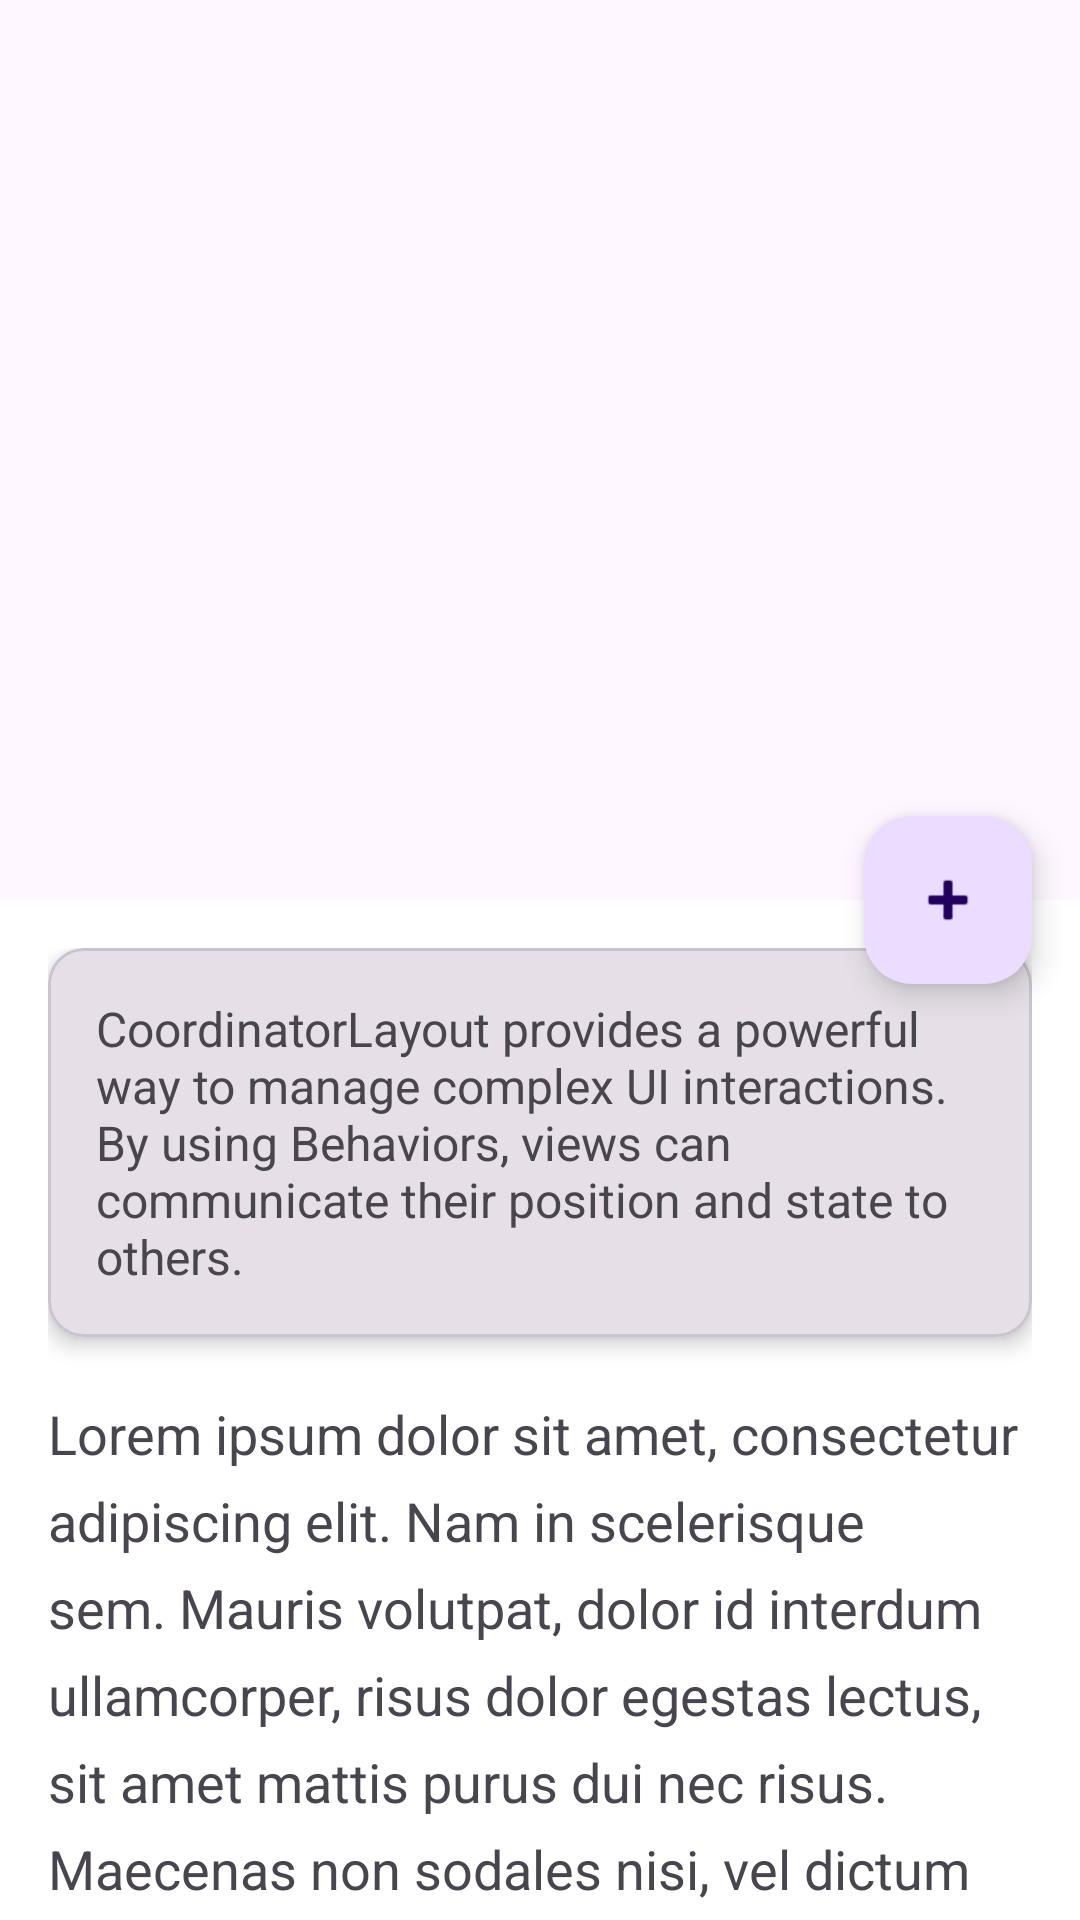

Locate icon controls on the screen. Image size 1080 x 1920, boxes as detection(x1, y1, x2, y2).
add: detection(864, 816, 1032, 984)
